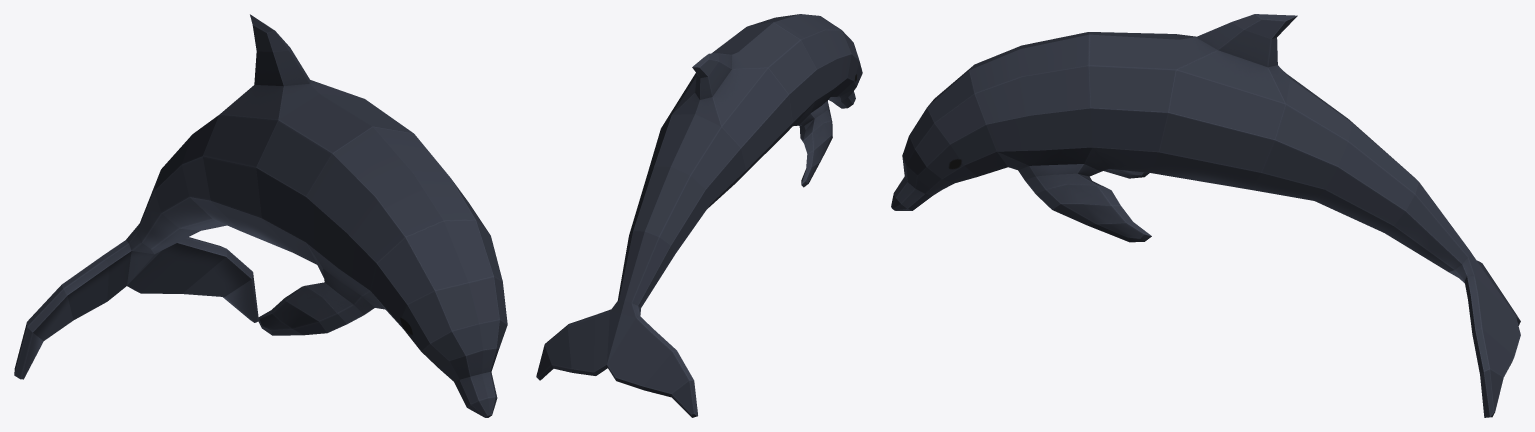
The model's file is delfin.gltf.
The picture shows the model from 3 angles, left to right: view 1: azimuth 30°, elevation 25°; view 2: azimuth 150°, elevation 25°; view 3: azimuth 270°, elevation 25°; orthographic projection. The views are drawn at different scales.
Visible parts, largest first — view 1: node-0; view 2: node-0; view 3: node-0.
Boxes of the visible parts, x1,y1,x2,y2 form: node-0: (14, 14, 507, 417); node-0: (536, 14, 862, 417); node-0: (891, 14, 1520, 417).
Bounding box in the file's own units: 5.63 × 9.25 × 14.84.
1 material, 1 textured.
